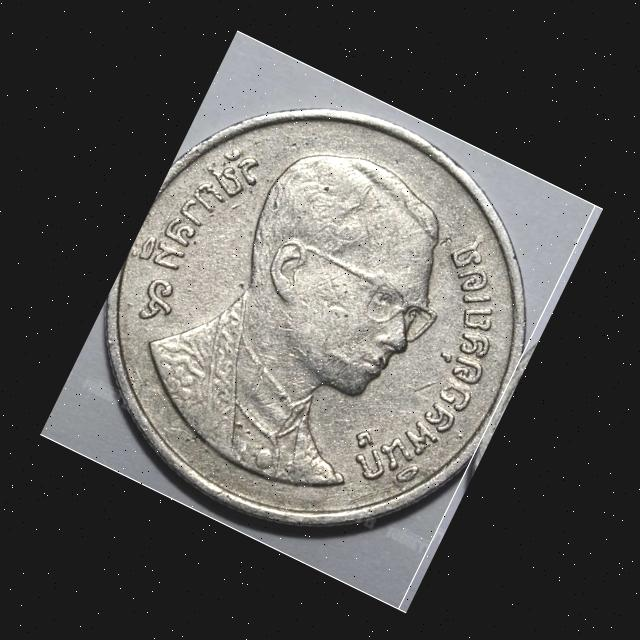1-baht: (39, 29, 602, 612)
